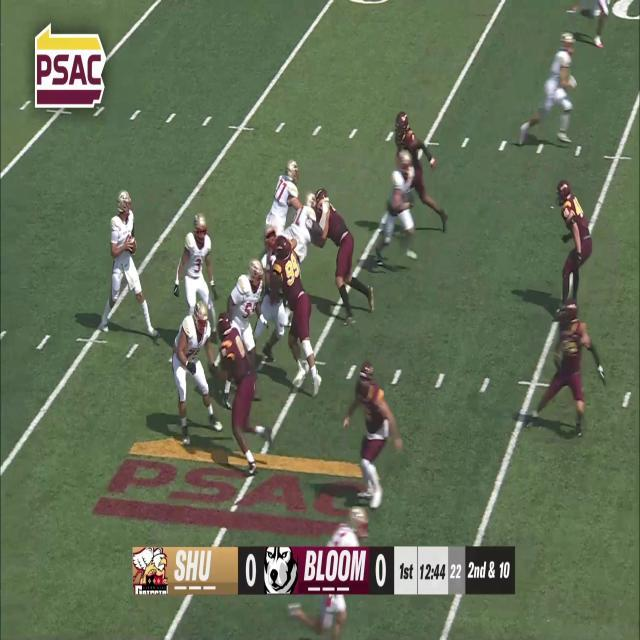football: (127, 232, 137, 255)
